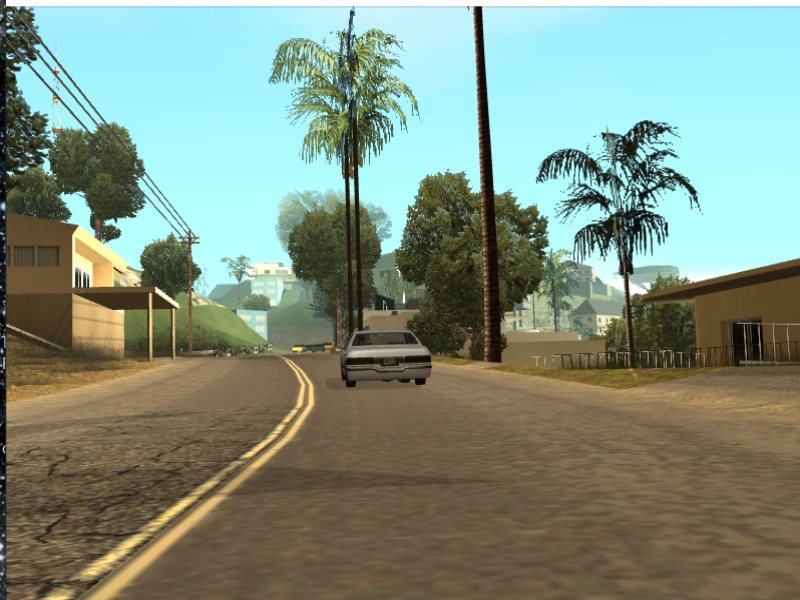pole: (185, 246, 195, 355)
tree: (470, 14, 511, 366), (345, 139, 357, 326), (622, 255, 636, 369)
vehicle: (340, 328, 439, 389)
